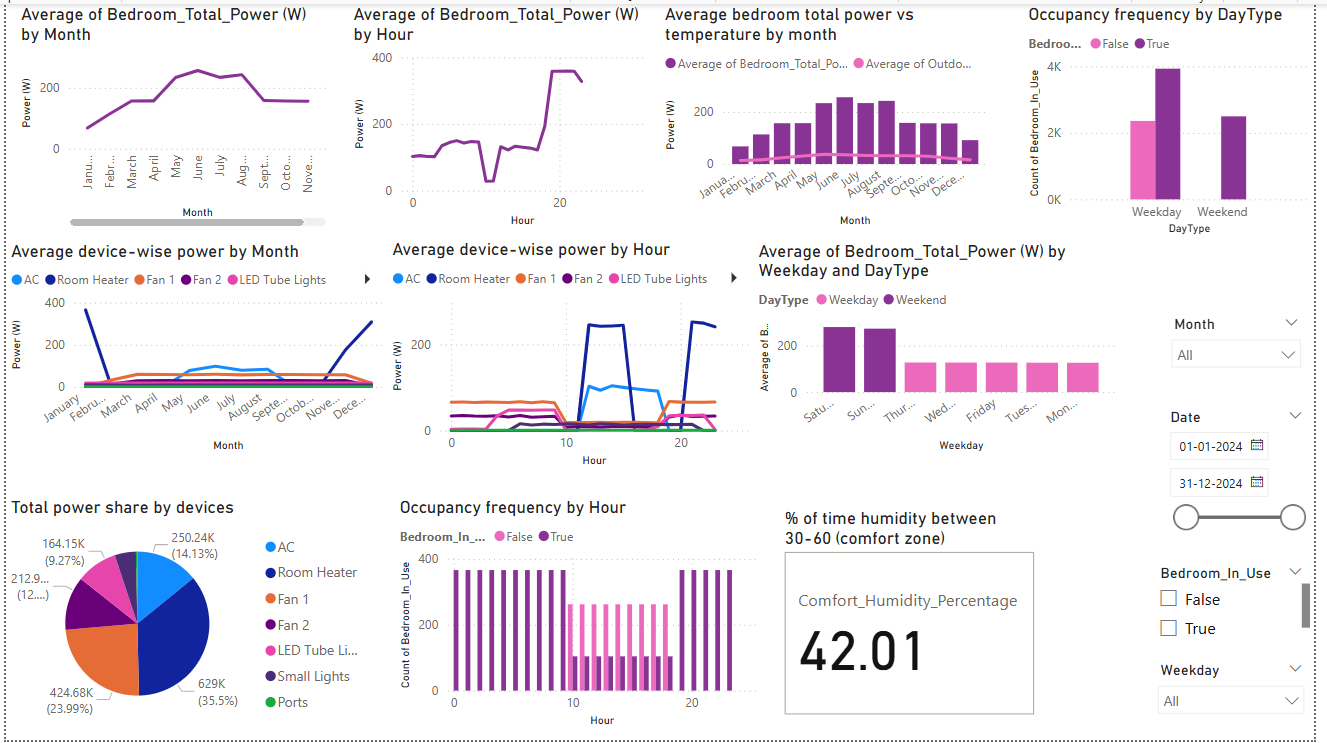

This screenshot's page, from the dashboard's own definition file:
{"tool":"powerbi","page":{"name":"Bedroom 2","canvas":[1280,720],"ordinal":2},"visuals":[{"type":"lineChart","fields":{"Y":["Avg(Bedroom 2.Bedroom_Total_Power (W))"],"Category":["Bedroom 2.Timestamp.Variation.Date Hierarchy.Month"]},"box":[9.8,0,308.2,222.6],"z":0},{"type":"lineChart","fields":{"Y":["Avg(Bedroom 2.Bedroom_Total_Power (W))"],"Category":["Bedroom 2.Hour"]},"box":[335.1,0,293.5,222.6],"z":1000},{"type":"lineChart","title":"Average device-wise power by Month","fields":{"Category":["Bedroom 2.Timestamp.Variation.Date Hierarchy.Month"],"Y":["Avg(Bedroom 2.AC_Power (W))","Avg(Bedroom 2.Room_Heater_Power (W))","Avg(Bedroom 2.Fan_1_Power (W))","Avg(Bedroom 2.Fan_2_Power (W))","Avg(Bedroom 2.LED_Tube_Lights_Power (W))","Avg(Bedroom 2.Small_Lights_Power (W))","Avg(Bedroom 2.Ports_Power (W))"]},"box":[0,231.1,373,211.6],"z":2000},{"type":"lineChart","title":"Average device-wise power by Hour","fields":{"Y":["Avg(Bedroom 2.AC_Power (W))","Avg(Bedroom 2.Room_Heater_Power (W))","Avg(Bedroom 2.Fan_1_Power (W))","Avg(Bedroom 2.Fan_2_Power (W))","Avg(Bedroom 2.LED_Tube_Lights_Power (W))","Avg(Bedroom 2.Small_Lights_Power (W))","Avg(Bedroom 2.Ports_Power (W))"],"Category":["Bedroom 2.Hour"]},"box":[373,229.9,358.3,227.4],"z":3000},{"type":"lineClusteredColumnComboChart","title":"Average bedroom total power vs temperature by month","fields":{"Y":["Avg(Bedroom 2.Bedroom_Total_Power (W))"],"Y2":["Avg(Bedroom 2.Outdoor Temperature (°C))"],"Category":["Bedroom 2.Timestamp.Variation.Date Hierarchy.Month"]},"box":[639.5,0,325.3,222.6],"z":4000},{"type":"pieChart","title":"Total power share by devices","fields":{"Y":["Sum(Bedroom 2.AC_Power (W))","Sum(Bedroom 2.Room_Heater_Power (W))","Sum(Bedroom 2.Fan_1_Power (W))","Sum(Bedroom 2.Fan_2_Power (W))","Sum(Bedroom 2.LED_Tube_Lights_Power (W))","Sum(Bedroom 2.Small_Lights_Power (W))","Sum(Bedroom 2.Ports_Power (W))"]},"box":[0,481.8,364.4,229.9],"z":5000},{"type":"cardVisual","title":"% of time humidity between 30-60 (comfort zone)","fields":{"Data":["Bedroom 2.Comfort_Humidity_Percentage"]},"box":[756.9,492.8,254.3,207.9],"z":6000},{"type":"columnChart","fields":{"Category":["Bedroom 2.Weekday"],"Y":["Avg(Bedroom 2.Bedroom_Total_Power (W))"],"Series":["Bedroom 2.DayType"]},"box":[731.3,231.1,359.5,211.6],"z":7000},{"type":"slicer","fields":{"Values":["Bedroom 2.Bedroom_In_Use"]},"box":[1116.4,542.9,163.9,84.4],"z":8000},{"type":"clusteredColumnChart","title":"Occupancy frequency by Hour","fields":{"Category":["Bedroom 2.Hour"],"Y":["CountNonNull(Bedroom 2.Bedroom_In_Use)"],"Series":["Bedroom 2.Bedroom_In_Use"]},"box":[380.3,481.8,360.7,229.9],"z":9000},{"type":"slicer","fields":{"Values":["Bedroom 2.Weekday"]},"box":[1116.4,638.3,163.9,81.9],"z":10000},{"type":"slicer","fields":{"Values":["Bedroom 2.Date"]},"box":[1126.2,390.1,154.1,152.9],"z":11000},{"type":"slicer","fields":{"Values":["Bedroom 2.Timestamp.Variation.Date Hierarchy.Month"]},"box":[1129.9,299.6,146.7,74.6],"z":12000},{"type":"clusteredColumnChart","title":"Occupancy frequency by DayType","fields":{"Category":["Bedroom 2.DayType"],"Y":["CountNonNull(Bedroom 2.Bedroom_In_Use)"],"Series":["Bedroom 2.Bedroom_In_Use"]},"box":[995.4,0,283.7,231.1],"z":13000}]}

Visuals, with their boxes in screenshot pixels (x1, y1, x2, y2), scaled from the page's 1280x720 canvas onto the 1327x743 screenshot:
lineChart - Avg(Bedroom 2.Bedroom_Total_Power (W)) x Bedroom 2.Timestamp.Variation.Date Hierarchy.Month: 10 0 330 230
lineChart - Avg(Bedroom 2.Bedroom_Total_Power (W)) x Bedroom 2.Hour: 347 0 652 230
"Average device-wise power by Month" lineChart: 0 238 387 457
"Average device-wise power by Hour" lineChart: 387 237 758 472
"Average bedroom total power vs temperature by month" lineClusteredColumnComboChart: 663 0 1000 230
"Total power share by devices" pieChart: 0 497 378 734
"% of time humidity between 30-60 (comfort zone)" cardVisual: 785 509 1048 723
columnChart - Bedroom 2.Weekday x Avg(Bedroom 2.Bedroom_Total_Power (W)): 758 238 1131 457
slicer - Bedroom 2.Bedroom_In_Use: 1157 560 1326 647
"Occupancy frequency by Hour" clusteredColumnChart: 394 497 768 734
slicer - Bedroom 2.Weekday: 1157 659 1326 742
slicer - Bedroom 2.Date: 1168 403 1326 560
slicer - Bedroom 2.Timestamp.Variation.Date Hierarchy.Month: 1171 309 1323 386
"Occupancy frequency by DayType" clusteredColumnChart: 1032 0 1326 238
